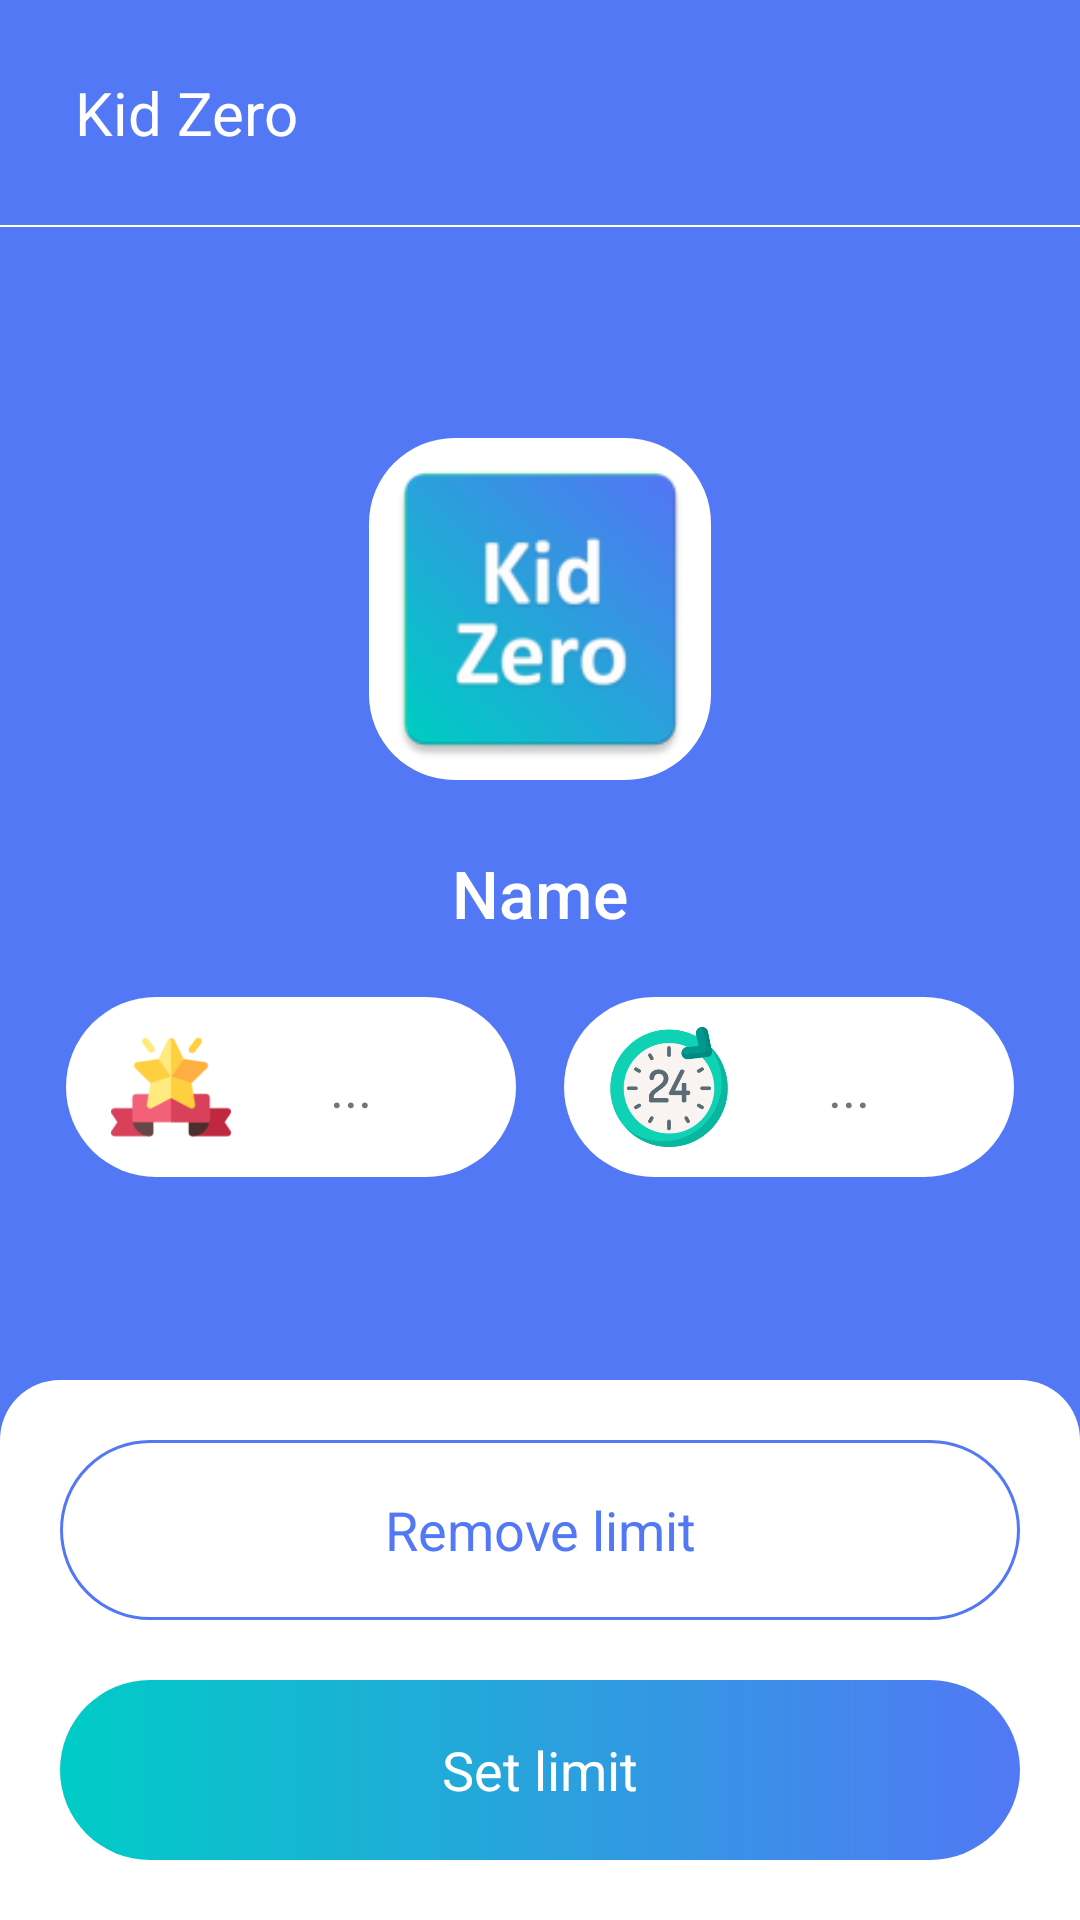

Screen size 1080w x 1920h. Icon name, then its box in pixels as (x1=x1, y1=y1, x2=x2, y2=y2):
star: (x1=111, y1=1037, x2=231, y2=1137)
time: (x1=610, y1=1027, x2=728, y2=1147)
